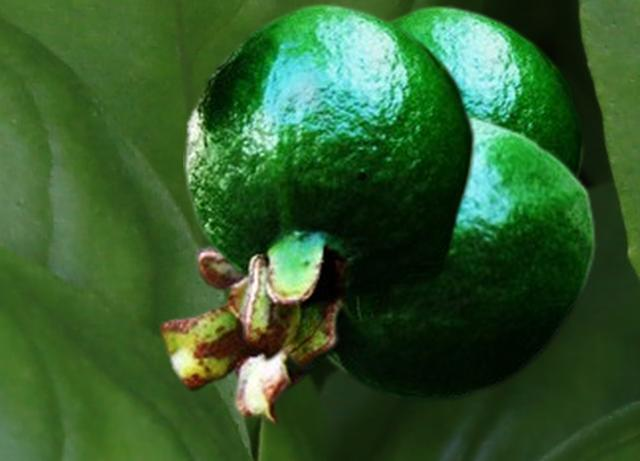guava: (158, 110, 596, 426), (183, 1, 476, 367), (386, 3, 586, 179)
